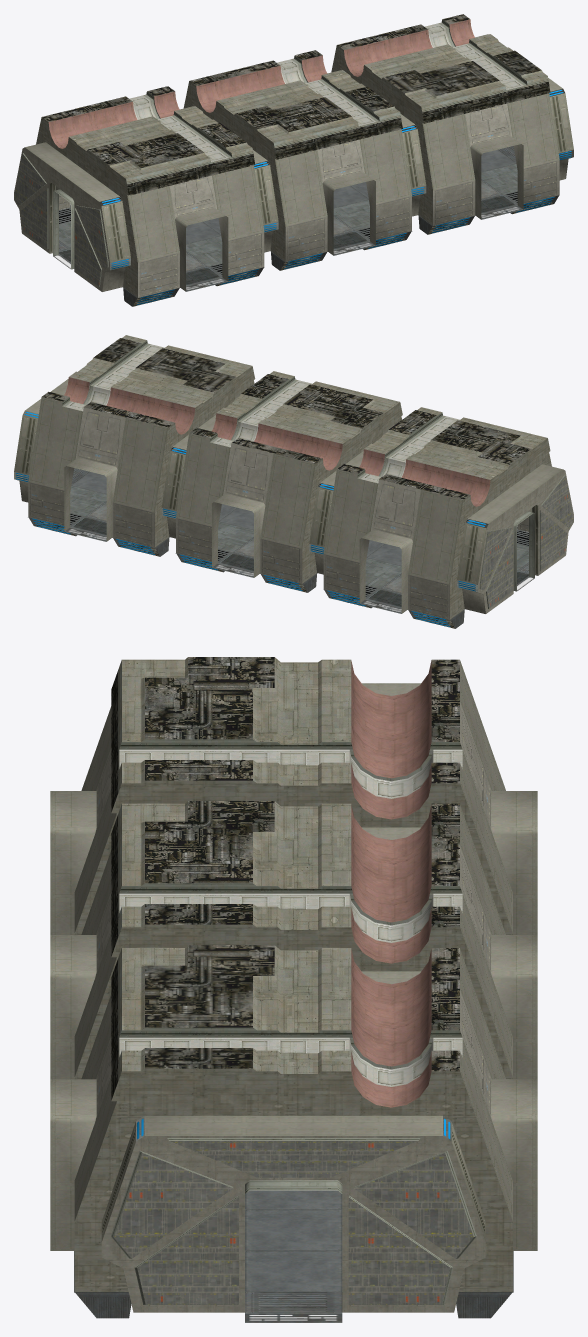
File: thm_tato_fallen_star_r18_hall05_mesh_r18.fbx
3 renders of one model, top to bottom at view 1: azimuth 30°, elevation 25°; view 2: azimuth 150°, elevation 25°; view 3: azimuth 270°, elevation 25°, orthographic. The views are drawn at different scales.
Visible parts, largest first — view 1: mesh_node; view 2: mesh_node; view 3: mesh_node.
Boxes of the visible parts, x1,y1,x2,y2 form: mesh_node: [14, 14, 573, 306]; mesh_node: [14, 335, 573, 628]; mesh_node: [50, 657, 537, 1322].
Bounding box in the file's own units: 22.55 × 5.65 × 10.
